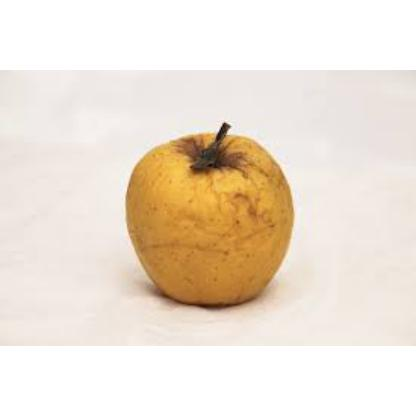damaged_apple: (120, 126, 296, 306)
